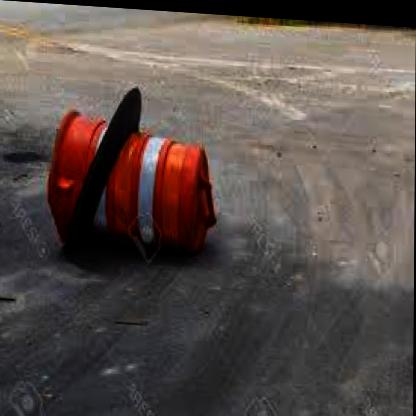obstacle: (45, 91, 204, 270)
